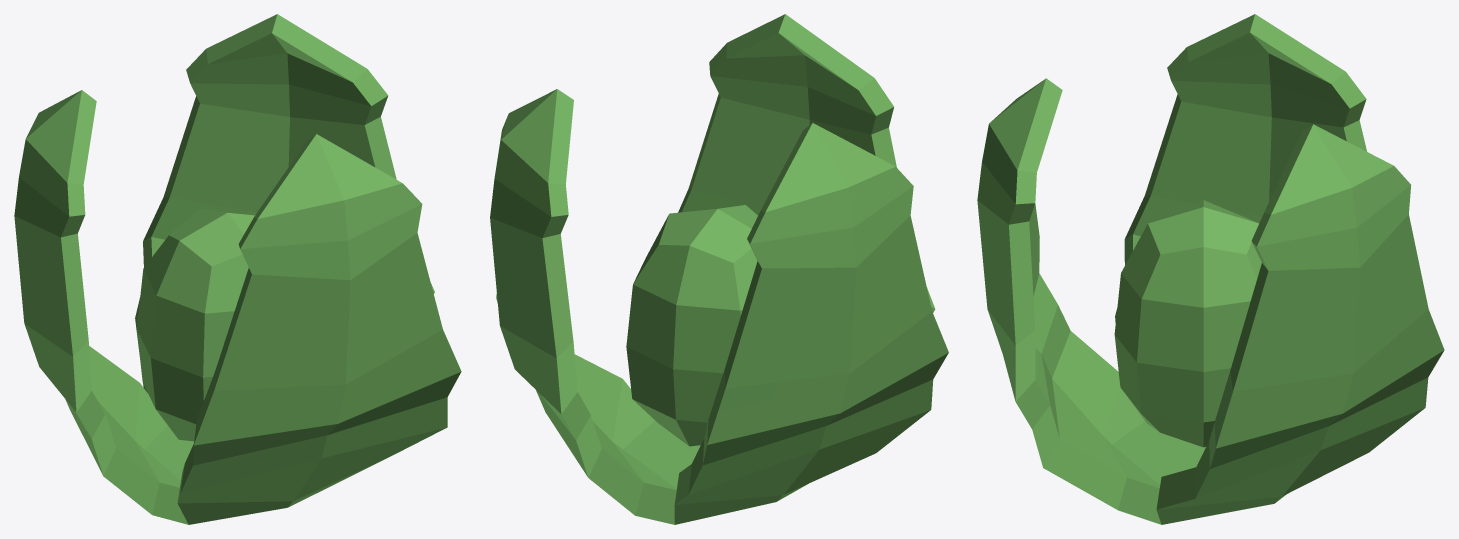
File: Lettuce_2-optimized.glb
The picture shows the model from 3 angles, left to right: view 1: azimuth 30°, elevation 25°; view 2: azimuth 150°, elevation 25°; view 3: azimuth 270°, elevation 25°; orthographic projection.
Visible parts, largest first — view 1: Lettuce_2; view 2: Lettuce_2; view 3: Lettuce_2.
Part boxes in pixels (box(x1,y1,x2,y2)): Lettuce_2: box(14, 14, 461, 524); Lettuce_2: box(490, 14, 948, 524); Lettuce_2: box(977, 14, 1444, 524).
Size of the model in its own units: 0.3689 by 0.354 by 0.3673.
